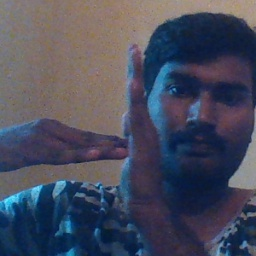Z: (45, 39, 172, 214)
